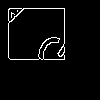G: (23, 24, 84, 83)
